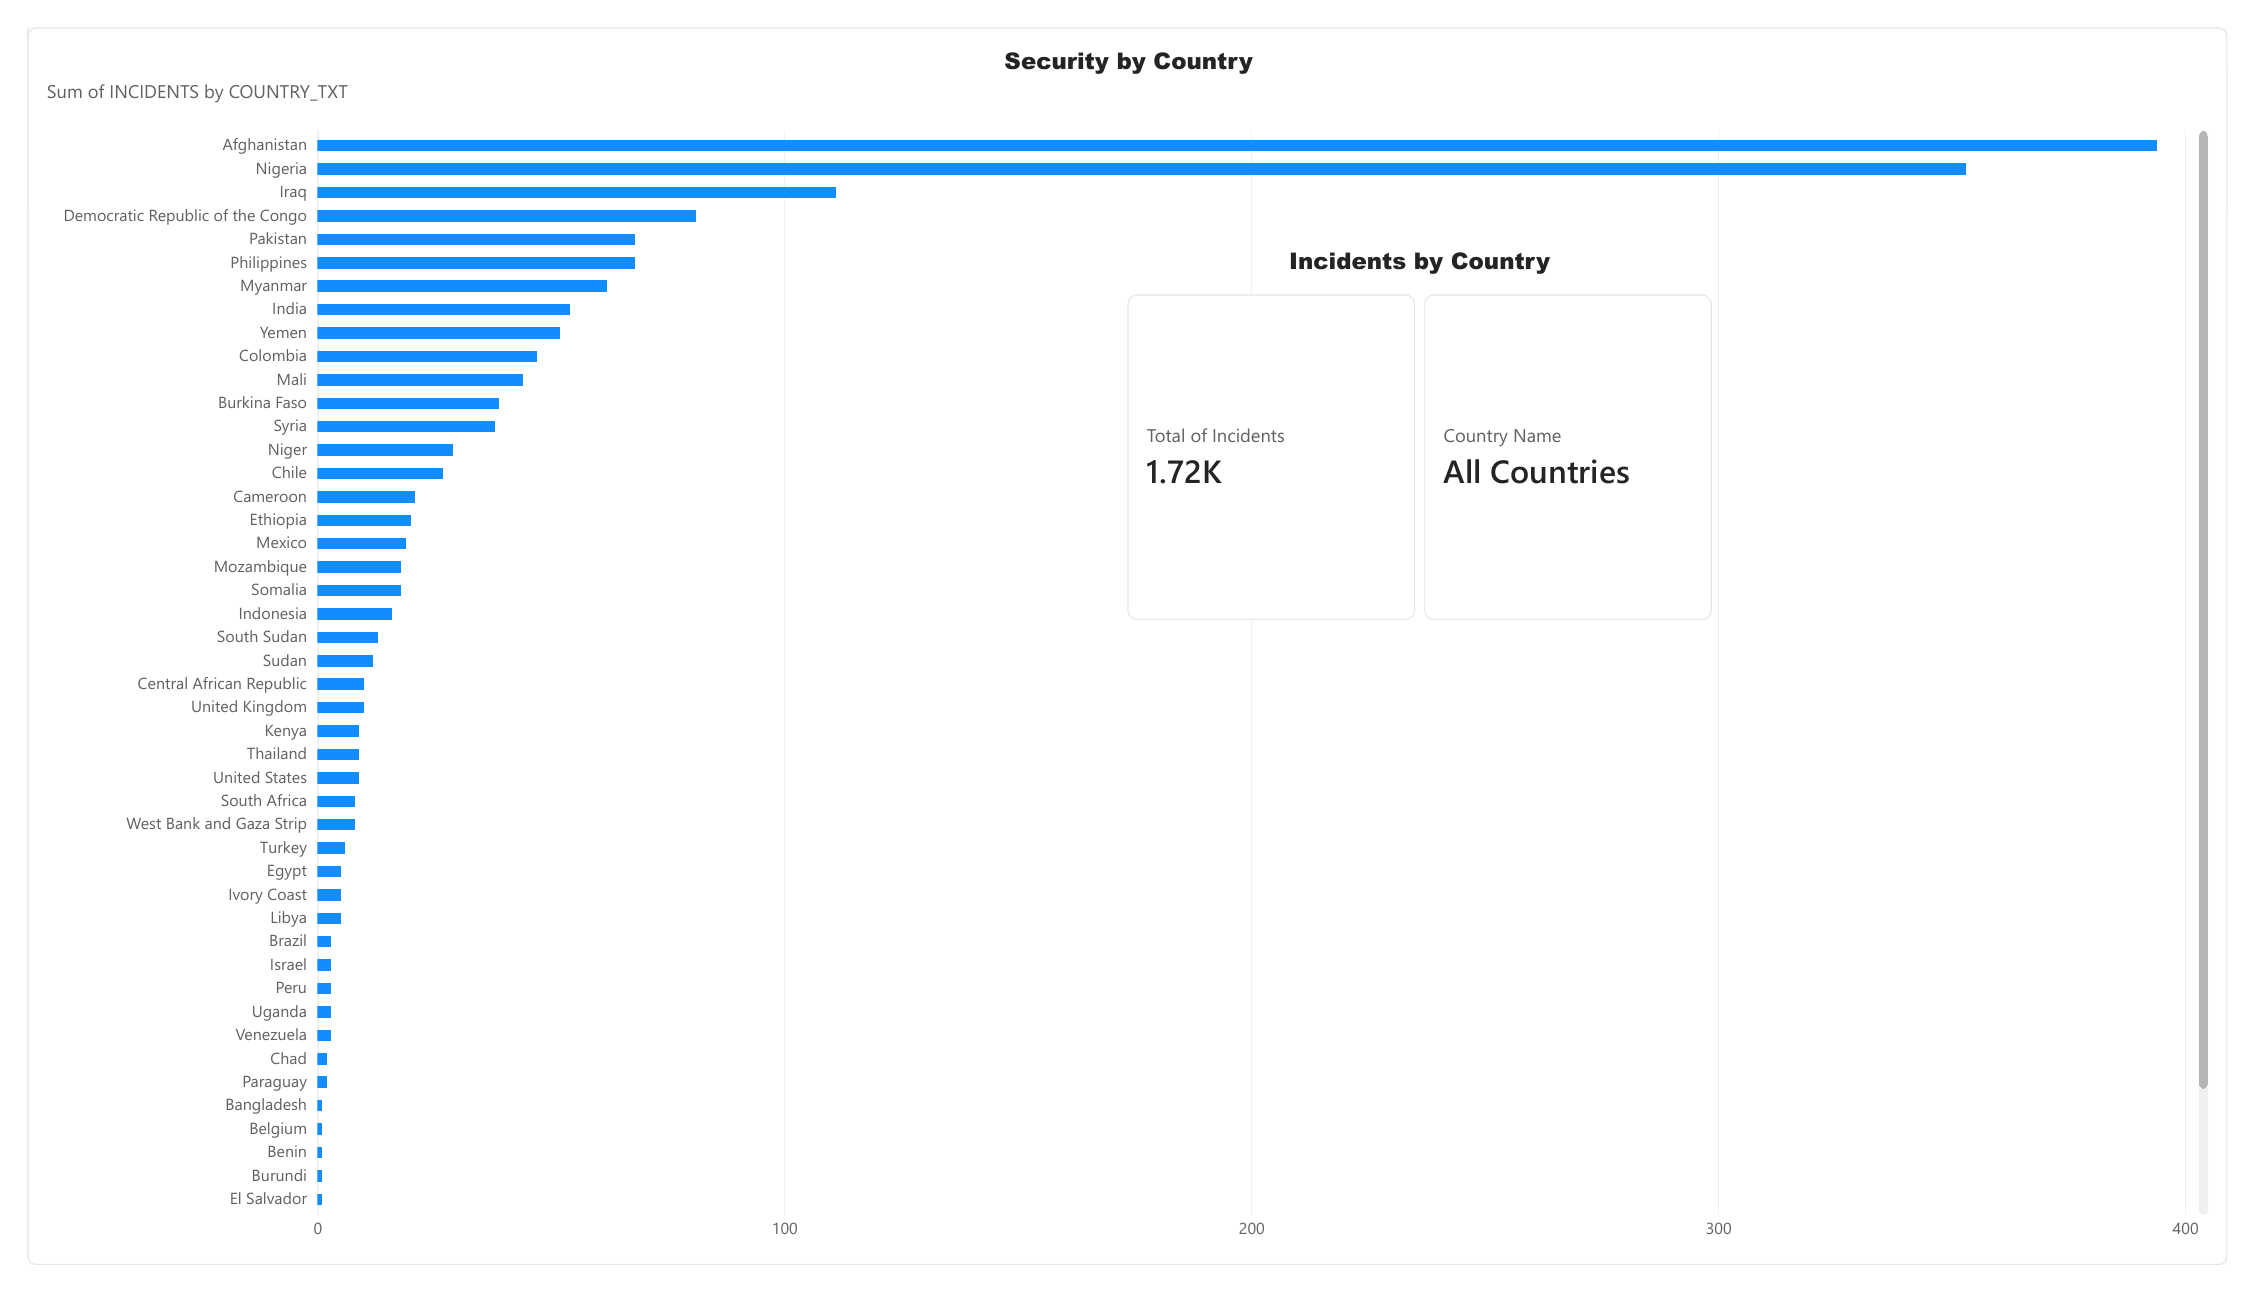

What the dashboard file says about the page in this screenshot:
{"tool":"powerbi","page":{"name":"Security by Country","canvas":[1920,1080],"ordinal":4},"visuals":[{"type":"clusteredBarChart","title":"Security by Country","fields":{"Category":["AGG_SECURITY_BY_COUNTRY.COUNTRY_TXT"],"Y":["Sum(AGG_SECURITY_BY_COUNTRY.INCIDENTS)"]},"box":[0,0,1920,1080],"z":0},{"type":"cardVisual","title":"Incidents by Country","fields":{"Data":["Sum(AGG_SECURITY_BY_COUNTRY.INCIDENTS)","AGG_SECURITY_BY_COUNTRY.Selected Country"]},"box":[960,188.6,510,328.6],"z":1000}]}

Visuals, with their boxes in screenshot pixels (x1, y1, x2, y2), scaled from the page's 1920x1080 canvas onto the 2255x1293 screenshot:
"Security by Country" clusteredBarChart: select_region(0, 0, 2254, 1292)
"Incidents by Country" cardVisual: select_region(1128, 226, 1726, 619)
